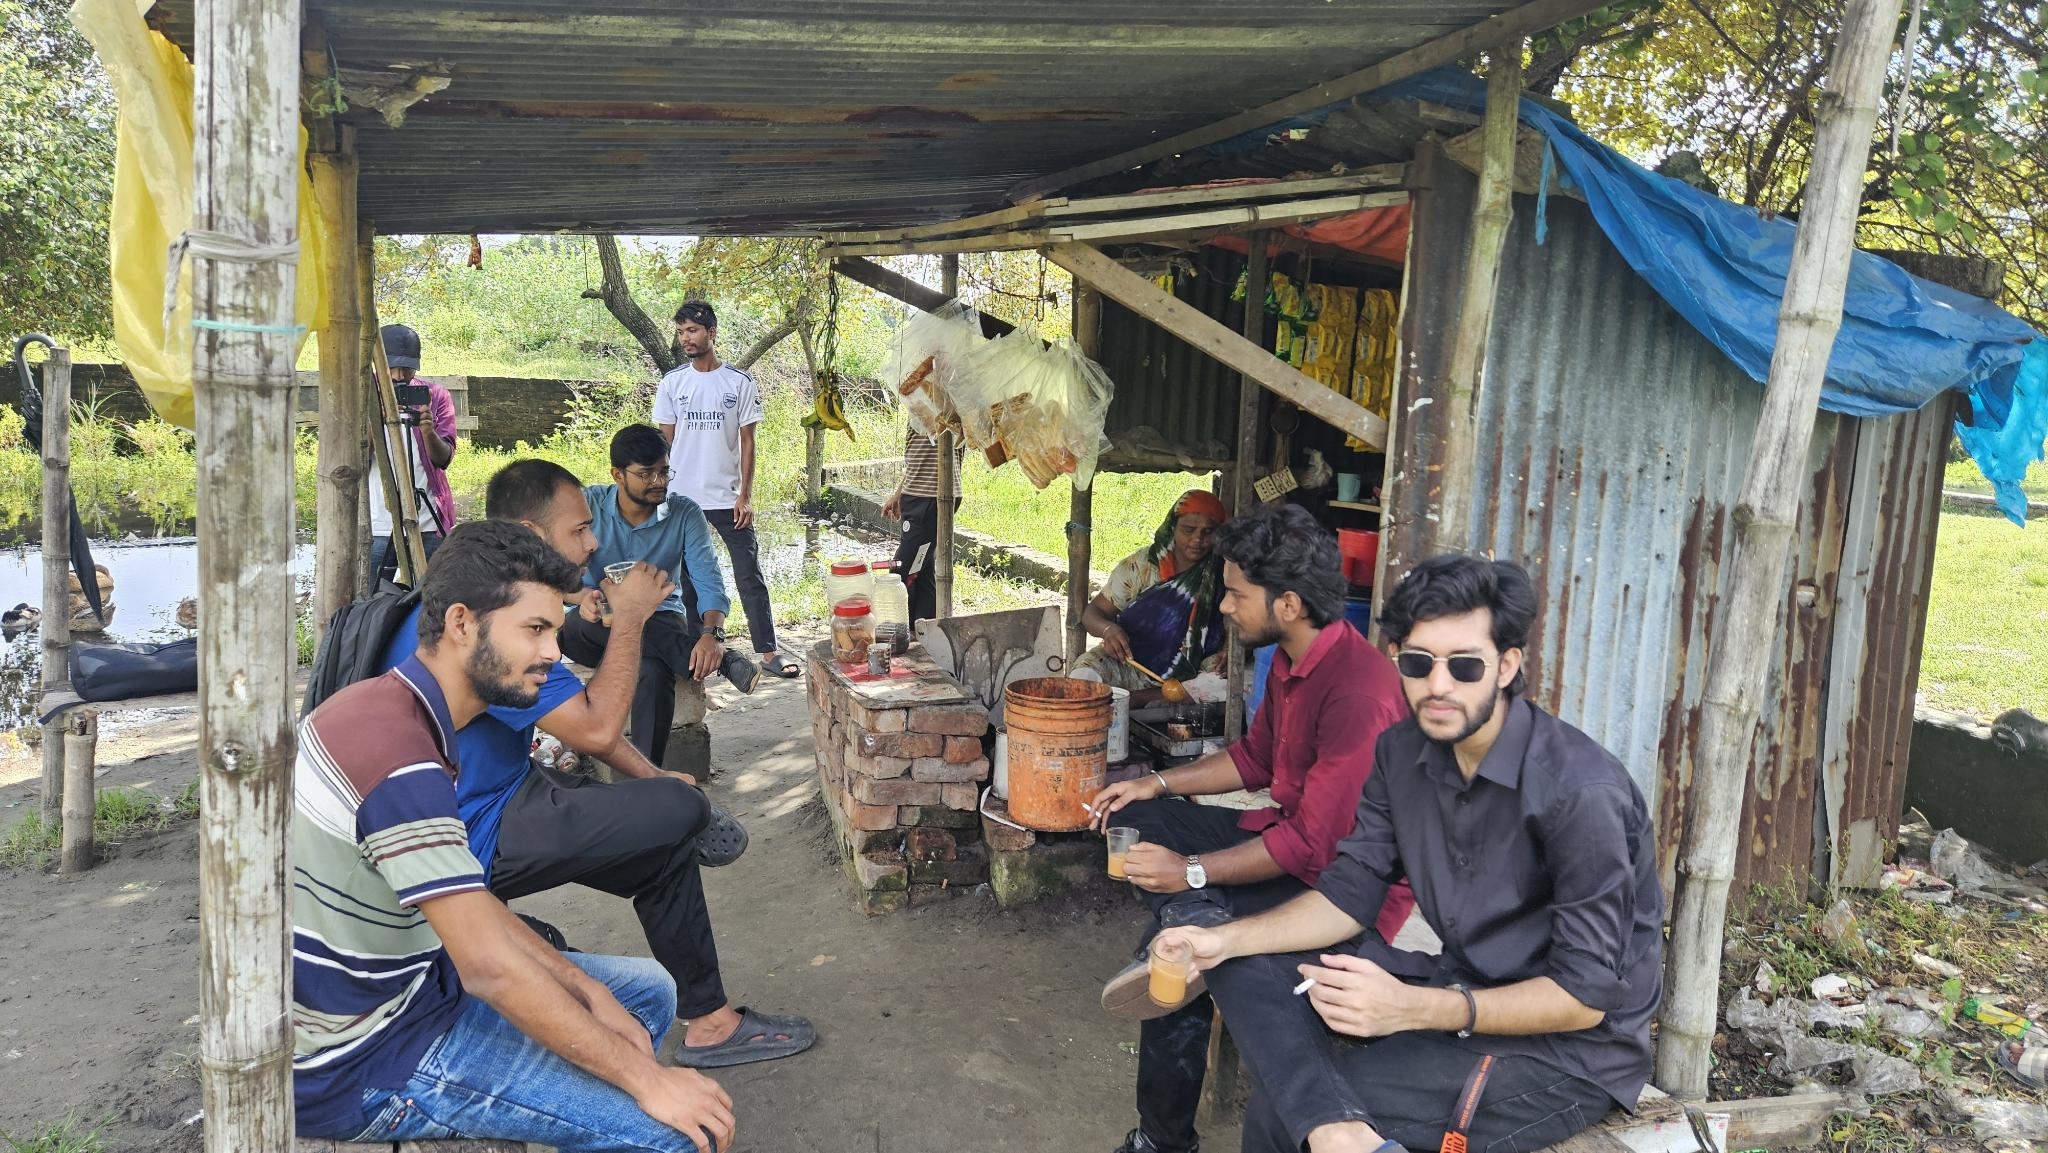cigarette: (1290, 976, 1318, 998), (1080, 800, 1104, 820)
nonSmoker: (301, 457, 819, 1070), (297, 527, 736, 1153), (560, 425, 762, 764), (651, 301, 800, 679), (1069, 489, 1227, 703)
smoker: (1162, 551, 1664, 1153), (1086, 508, 1397, 922)
